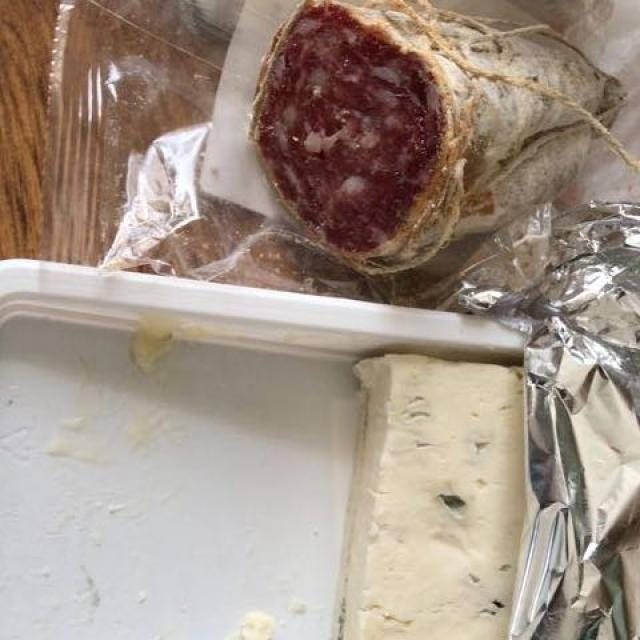salami: (243, 1, 631, 278)
